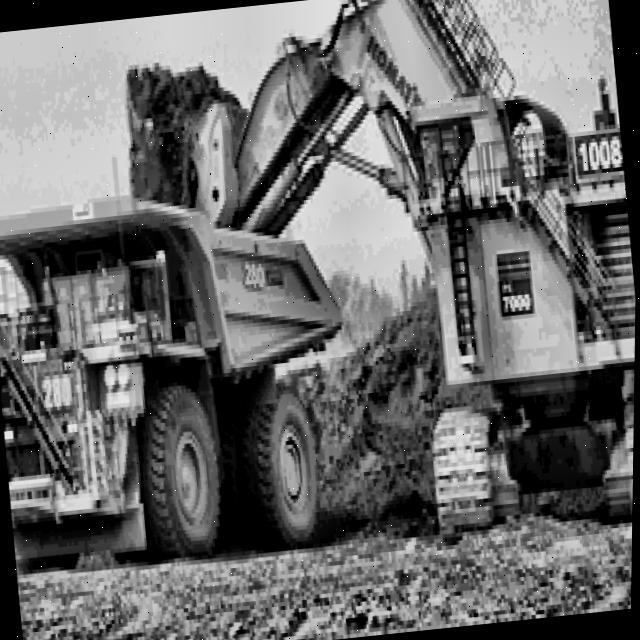dump_truck: (0, 162, 369, 621)
excavator: (103, 0, 640, 626)
